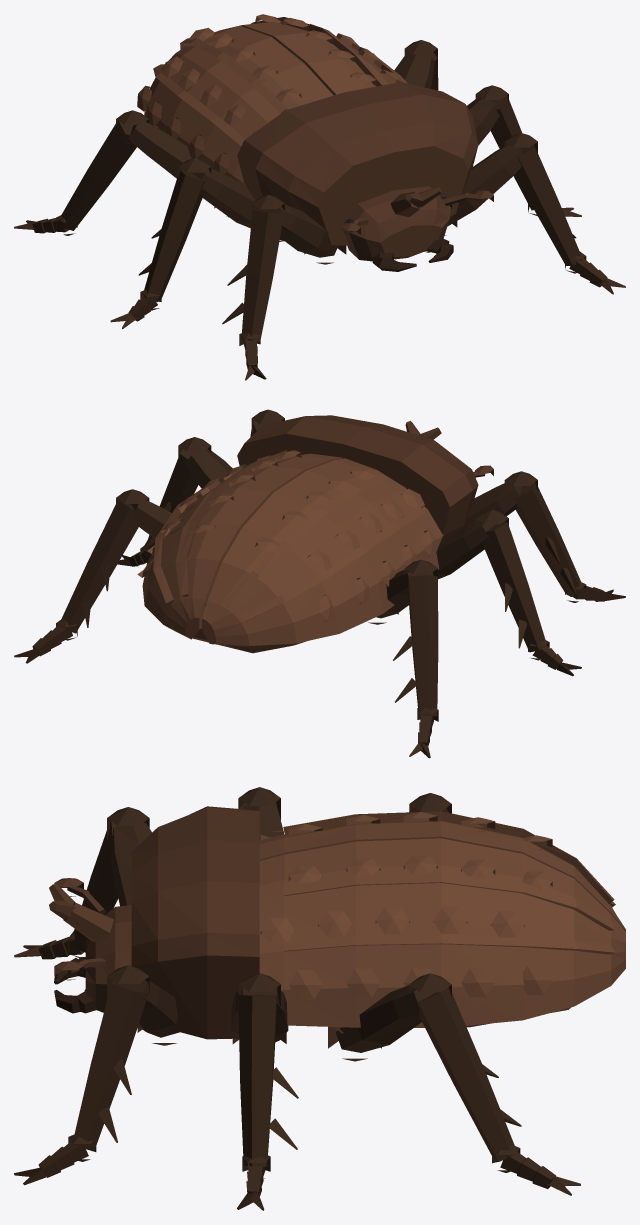
File: giant.glb
3 renders of one model, top to bottom at view 1: azimuth 30°, elevation 25°; view 2: azimuth 150°, elevation 25°; view 3: azimuth 270°, elevation 25°, orthographic. The views are drawn at different scales.
Visible parts, largest first — view 1: ThoraxCore, BeetlePlate_01, BeetlePlate_knob, HeadBase001, BeetlePlate_00, Tibia001, Tibia003, Tibia000, Tibia005, Femur000, Femur003, Femur001 (+6 smaller); view 2: BeetlePlate_01, BeetlePlate_00, ThoraxCore, BeetlePlate_knob, Tibia005, Tibia004, Tibia003, Tibia001, Femur003, Tibia002, Femur001, Femur002 (+4 smaller); view 3: BeetlePlate_00, ThoraxCore, BeetlePlate_knob, BeetlePlate_01, Tibia004, Tibia002, Tibia000, Femur004, HeadBase001, Femur001, Tibia001, Femur000 (+12 smaller).
Boxes of the visible parts, left/top/right/bottom form: ThoraxCore: left=237, top=82, right=478, bottom=245; BeetlePlate_01: left=144, top=25, right=333, bottom=185; BeetlePlate_knob: left=137, top=14, right=403, bottom=173; HeadBase001: left=344, top=186, right=450, bottom=261; BeetlePlate_00: left=240, top=17, right=407, bottom=95; Tibia001: left=222, top=210, right=283, bottom=341; Tibia003: left=138, top=169, right=204, bottom=301; Tibia000: left=515, top=145, right=582, bottom=265; Tibia005: left=60, top=120, right=136, bottom=230; Femur000: left=447, top=144, right=522, bottom=226; Femur003: left=191, top=169, right=255, bottom=228; Femur001: left=257, top=204, right=338, bottom=257; BeetlePlate_01: left=202, top=458, right=444, bottom=646; BeetlePlate_00: left=142, top=450, right=342, bottom=639; ThoraxCore: left=237, top=415, right=478, bottom=534; BeetlePlate_knob: left=137, top=450, right=437, bottom=621; Tibia005: left=393, top=575, right=438, bottom=717; Tibia004: left=60, top=499, right=139, bottom=633; Tibia003: left=482, top=521, right=547, bottom=652; Tibia001: left=515, top=482, right=581, bottom=596; Femur003: left=436, top=520, right=495, bottom=579; Tibia002: left=138, top=449, right=198, bottom=558; Femur001: left=465, top=482, right=522, bottom=524; Femur002: left=185, top=448, right=232, bottom=488; BeetlePlate_00: left=259, top=838, right=625, bottom=1027; ThoraxCore: left=131, top=806, right=259, bottom=1039; BeetlePlate_knob: left=260, top=812, right=552, bottom=999; BeetlePlate_01: left=259, top=811, right=625, bottom=931; Tibia004: left=416, top=987, right=521, bottom=1162; Tibia002: left=238, top=995, right=298, bottom=1166; Tibia000: left=72, top=982, right=148, bottom=1149; Femur004: left=335, top=985, right=435, bottom=1052; HeadBase001: left=85, top=905, right=131, bottom=1012; Femur001: left=110, top=822, right=151, bottom=906; Tibia001: left=72, top=821, right=118, bottom=952; Femur000: left=113, top=980, right=179, bottom=1037.
Size of the model in its own units: 4.17 by 1.55 by 3.73.
